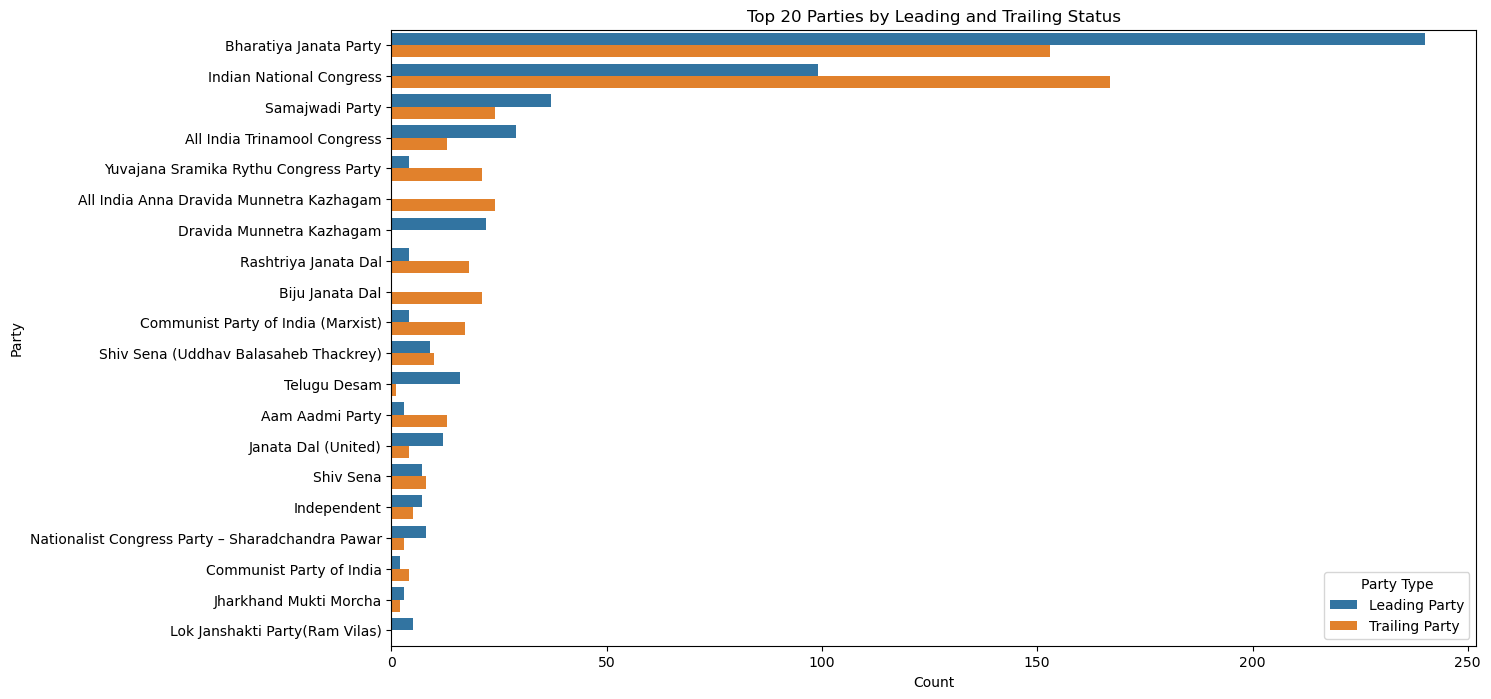

What the dashboard file says about the page in this screenshot:
{"tool":"powerbi","page":{"name":"Page 5","canvas":[1280,720],"ordinal":4},"visuals":[{"type":"clusteredBarChart","fields":{"Category":["election_results_2024.Leading Party"],"Y":["CountNonNull(election_results_2024.Status)"]},"box":[9.6,0,1051.1,662.8],"z":0}]}

Visuals, with their boxes on the page's 1280x720 design canvas (x1, y1, x2, y2). These are canvas units, not pixel positions in the 1491x699 screenshot, which may show the page scaled, cropped or inside an application window:
clusteredBarChart - election_results_2024.Leading Party x CountNonNull(election_results_2024.Status): region(10, 0, 1061, 663)
